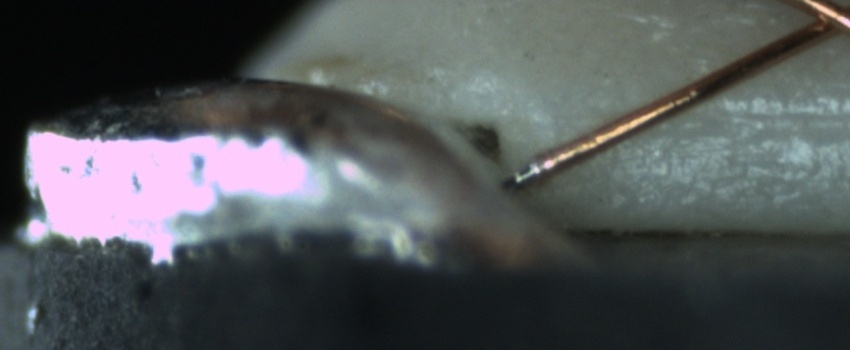CL: (779, 1, 848, 45)
DL: (614, 83, 847, 152)
TS: (507, 155, 548, 185)
TTCW: (504, 147, 550, 187)
